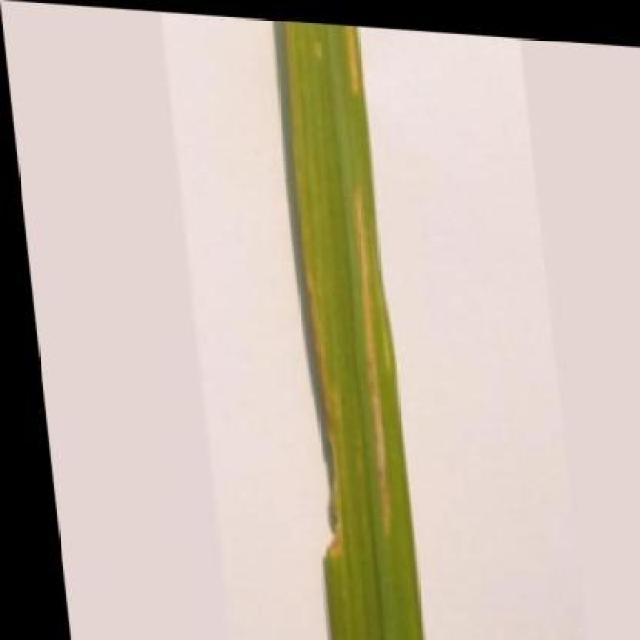Brown_Spot: (260, 15, 422, 640)
